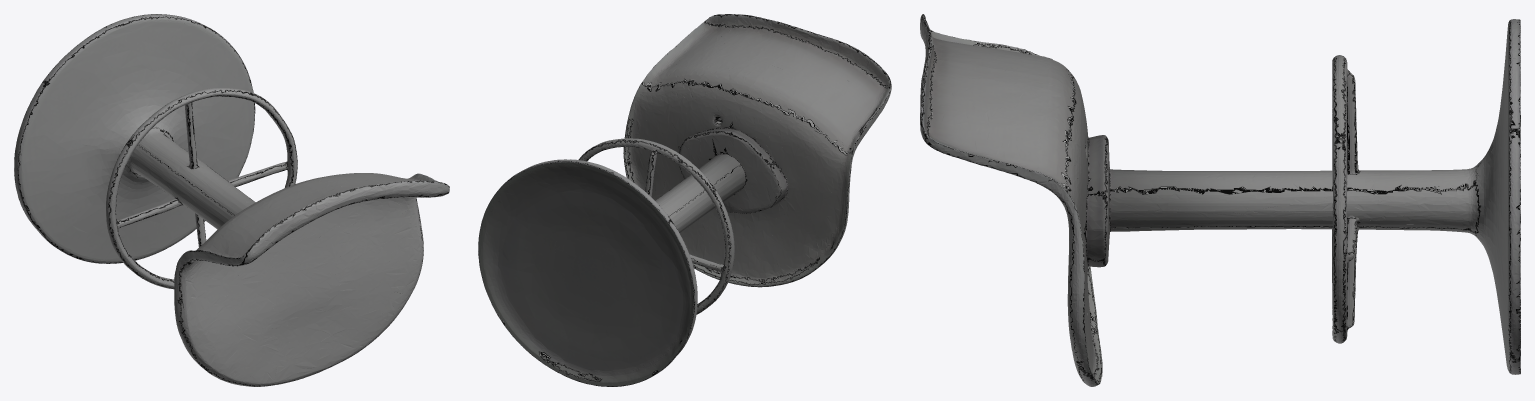
The picture shows the model from 3 angles, left to right: view 1: azimuth 30°, elevation 25°; view 2: azimuth 150°, elevation 25°; view 3: azimuth 270°, elevation 25°; orthographic projection. The views are drawn at different scales.
Bounding box in the file's own units: 0.5278 × 0.504 × 0.8338.
1 material, 1 textured.
